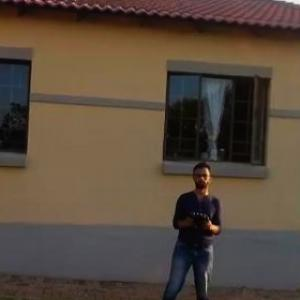follow: (151, 161, 226, 299)
